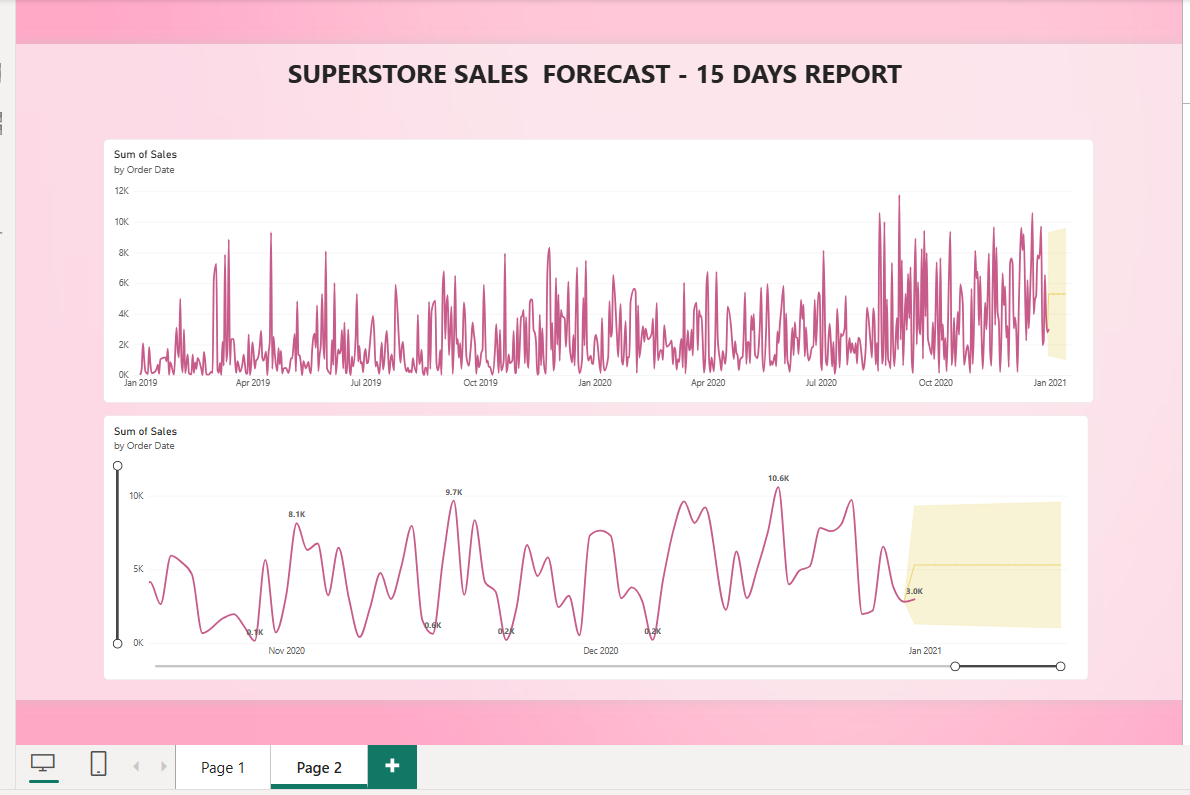

What the dashboard file says about the page in this screenshot:
{"tool":"powerbi","page":{"name":"Page 2","canvas":[1920,1080],"ordinal":1},"visuals":[{"type":"lineChart","fields":{"Category":["SuperStore_Sales_Dataset.Order Date"],"Y":["Sum(SuperStore_Sales_Dataset.Sales)"]},"box":[144.1,156.4,1630.2,434.3],"z":0},{"type":"lineChart","fields":{"Category":["SuperStore_Sales_Dataset.Order Date"],"Y":["Sum(SuperStore_Sales_Dataset.Sales)"]},"box":[144.1,611.3,1622,436.4],"z":1000},{"type":"textbox","box":[144.1,0,1630.2,98.8],"z":1001}]}

Visuals, with their boxes on the page's 1920x1080 design canvas (x1, y1, x2, y2). These are canvas units, not pixel positions in the 1190x795 screenshot, which may show the page scaled, cropped or inside an application window:
lineChart - SuperStore_Sales_Dataset.Order Date x Sum(SuperStore_Sales_Dataset.Sales): pyautogui.locateOnScreen(144, 156, 1774, 591)
lineChart - SuperStore_Sales_Dataset.Order Date x Sum(SuperStore_Sales_Dataset.Sales): pyautogui.locateOnScreen(144, 611, 1766, 1048)
textbox: pyautogui.locateOnScreen(144, 0, 1774, 99)
